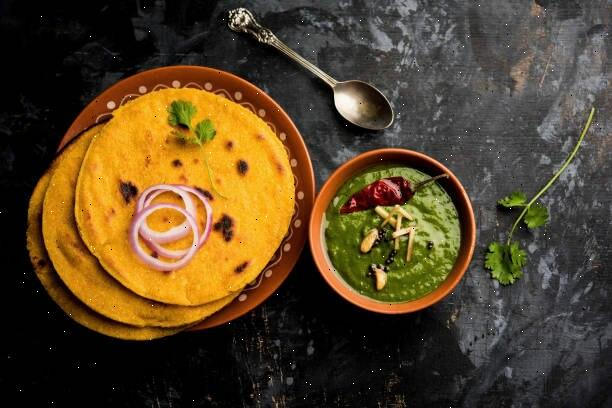saag: (325, 164, 459, 301)
